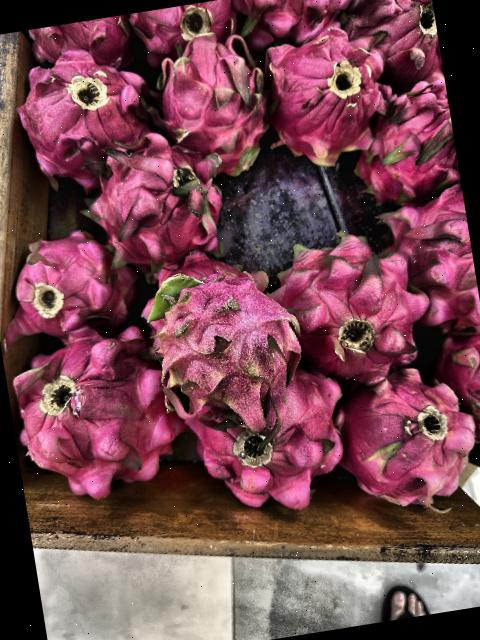buah-naga-belum-matang: (150, 254, 309, 433)
buah-naga-matang: (9, 318, 180, 506), (271, 219, 436, 387), (172, 358, 346, 513), (327, 350, 480, 523), (79, 122, 234, 271), (14, 38, 158, 180), (255, 15, 390, 159), (146, 20, 268, 177), (0, 219, 133, 339), (375, 187, 480, 328), (360, 78, 462, 200), (344, 0, 442, 82), (32, 14, 134, 72), (133, 0, 239, 54), (435, 331, 480, 454), (235, 0, 362, 43)
